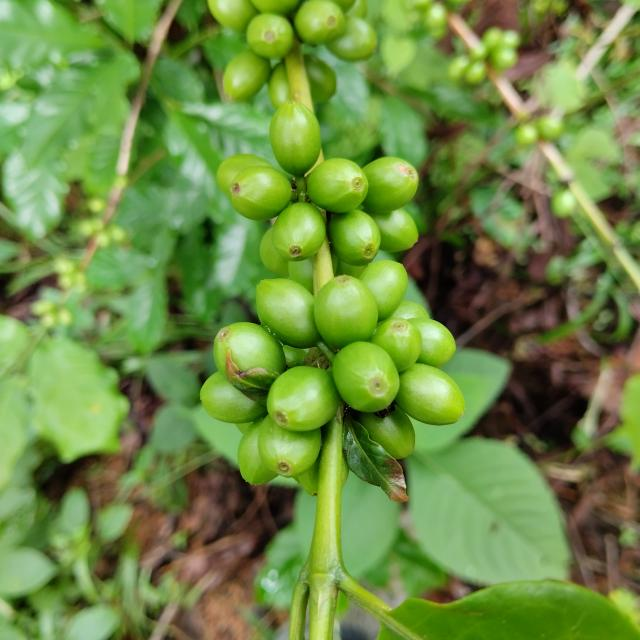green: (214, 322, 286, 402), (266, 366, 341, 432), (314, 275, 379, 350), (332, 342, 400, 412), (256, 278, 321, 349), (395, 363, 465, 426), (258, 415, 321, 478), (269, 100, 321, 176), (200, 372, 267, 424), (229, 165, 292, 220), (307, 158, 369, 213), (362, 156, 419, 213), (272, 202, 326, 261), (355, 408, 415, 460), (359, 260, 408, 322), (328, 209, 381, 266), (370, 318, 422, 372), (238, 421, 278, 486), (223, 49, 271, 100), (216, 153, 272, 196), (410, 318, 456, 368), (326, 15, 377, 60), (294, 0, 345, 44), (369, 208, 419, 252), (247, 12, 294, 58), (304, 54, 336, 101), (259, 227, 289, 276), (268, 62, 289, 109), (294, 460, 319, 497), (391, 300, 430, 319)
